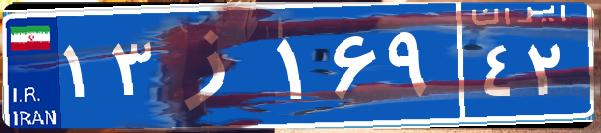1: (273, 28, 330, 110), (57, 26, 110, 107)
2: (525, 38, 570, 115)
3: (110, 28, 158, 105)
4: (475, 38, 525, 113)
6: (330, 28, 385, 110)
9: (385, 28, 445, 110)
ز: (158, 15, 273, 115)
